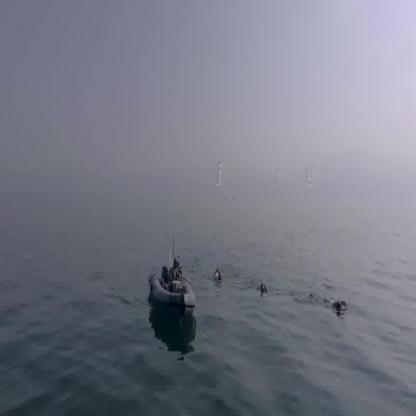Boat: (144, 265, 193, 319)
